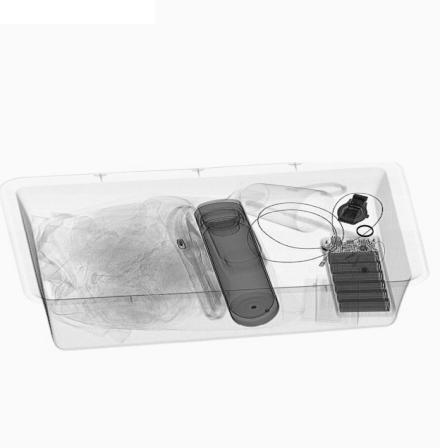Powerbank: (317, 234, 398, 318)
